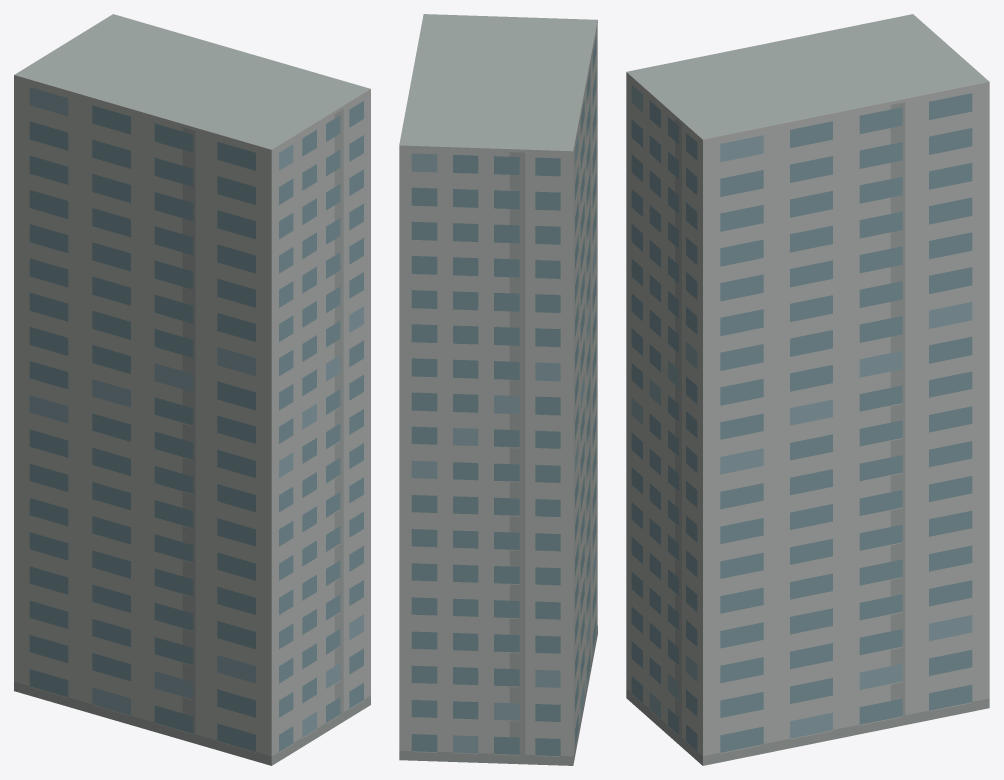
Rendered from residential-a4eed8e1-e672-41d0-b245-3bb20a04c904.glb.
The picture shows the model from 3 angles, left to right: view 1: azimuth 30°, elevation 25°; view 2: azimuth 150°, elevation 25°; view 3: azimuth 270°, elevation 25°; orthographic projection.
Visible parts, largest first — view 1: residential-a4eed8e1-e672-41d0-b245-3bb20a04c904.tmp; view 2: residential-a4eed8e1-e672-41d0-b245-3bb20a04c904.tmp; view 3: residential-a4eed8e1-e672-41d0-b245-3bb20a04c904.tmp.
Part boxes in pixels (<box>): residential-a4eed8e1-e672-41d0-b245-3bb20a04c904.tmp: <box>14,14,370,765</box>; residential-a4eed8e1-e672-41d0-b245-3bb20a04c904.tmp: <box>399,14,597,765</box>; residential-a4eed8e1-e672-41d0-b245-3bb20a04c904.tmp: <box>626,14,989,765</box>.
Size of the model in its own units: 21.96 by 51 by 26.84.
